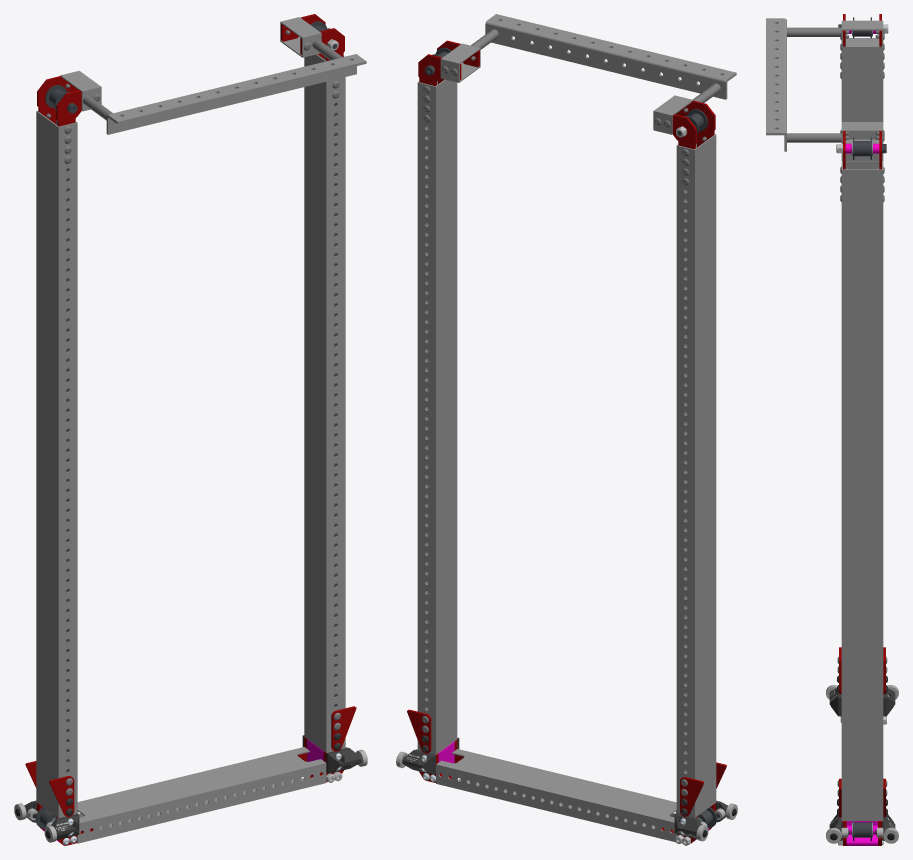
The picture shows the model from 3 angles, left to right: view 1: azimuth 30°, elevation 25°; view 2: azimuth 150°, elevation 25°; view 3: azimuth 270°, elevation 25°; orthographic projection. The views are drawn at different scales.
Visible parts, largest first — view 1: Tube 2"x1"x34.5" (×2), Tube 2"x1"x13", Crossbar, Tube 1"x1"x2" (×2), Idler Nut Plate; view 2: Tube 2"x1"x34.5" (×2), Tube 2"x1"x13", Crossbar, Tube 1"x1"x2" (×2); view 3: Tube 2"x1"x34.5" (×2), Crossbar, Tube 1"x1"x2" (×2), Stage 0 Spacer (×2), Cross Spacer.
Boxes of the visible parts, x1,y1,x2,y2 form: Tube 2"x1"x34.5" (×2): (36,54,345,818); Tube 2"x1"x13": (77,747,326,843); Crossbar: (106,54,366,134); Tube 1"x1"x2" (×2): (60,17,321,111); Idler Nut Plate: (37,76,78,124); Tube 2"x1"x34.5" (×2): (417,79,716,817); Tube 2"x1"x13": (436,749,677,842); Crossbar: (485,14,736,99); Tube 1"x1"x2" (×2): (440,43,693,134); Tube 2"x1"x34.5" (×2): (841,38,883,820); Crossbar: (766,18,786,151); Tube 1"x1"x2" (×2): (841,20,883,144); Stage 0 Spacer (×2): (787,27,841,142); Cross Spacer: (846,821,877,845).
Size of the model in its own units: 0.4235 by 0.9525 by 0.1619.
